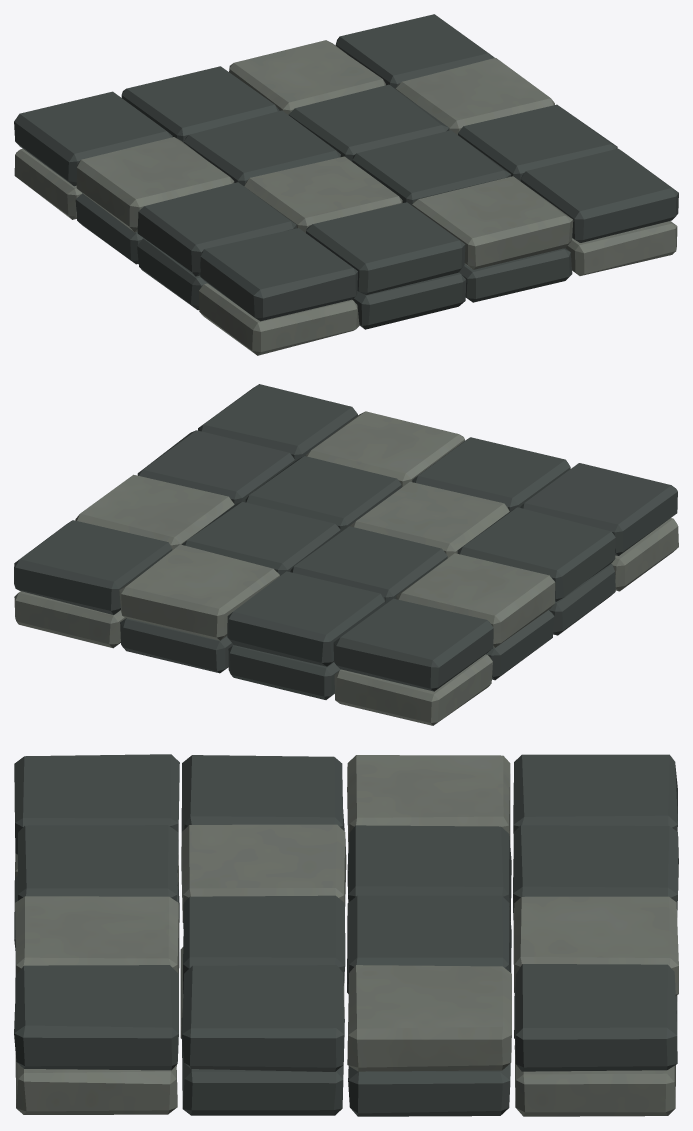
File: AR_StoneFoundation_2m.glb
3 renders of one model, top to bottom at view 1: azimuth 30°, elevation 25°; view 2: azimuth 150°, elevation 25°; view 3: azimuth 270°, elevation 25°, orthographic. The views are drawn at different scales.
Parts seen in each view (by area): view 1: AR_StoneFoundation_2m; view 2: AR_StoneFoundation_2m; view 3: AR_StoneFoundation_2m.
Boxes of the visible parts, bbox=[...] form: AR_StoneFoundation_2m: bbox=[14, 14, 678, 355]; AR_StoneFoundation_2m: bbox=[14, 384, 678, 725]; AR_StoneFoundation_2m: bbox=[14, 754, 678, 1116].
Size of the model in its own units: 2 by 0.3008 by 2.
2 materials, 1 textured.
